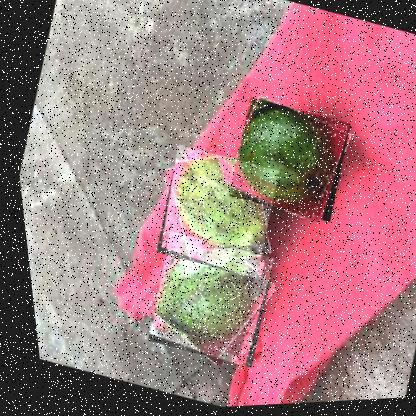guava: (129, 228, 278, 374), (140, 141, 285, 285), (215, 94, 356, 230)
